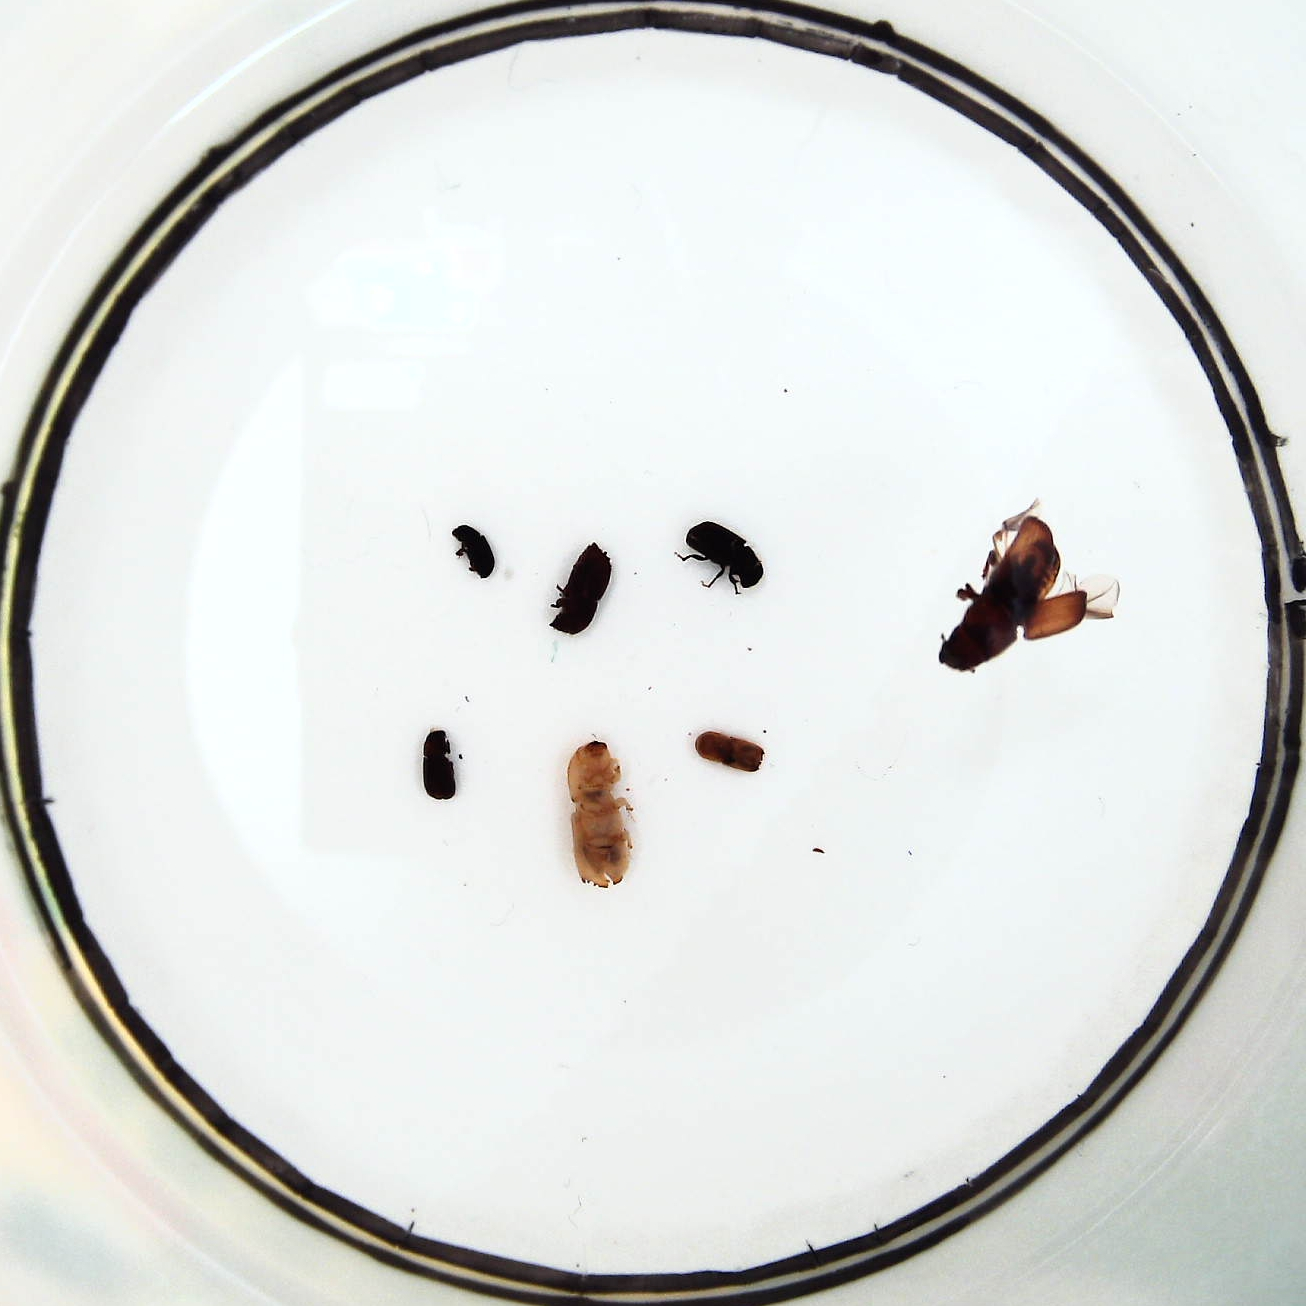Boerner: (564, 733, 631, 887)
Leconte: (942, 511, 1093, 667)
Linnaeus: (554, 545, 614, 640)
acuminatus: (686, 728, 764, 777)
armandi: (678, 518, 764, 591)
coleoptera: (419, 726, 459, 799), (452, 521, 496, 574)
